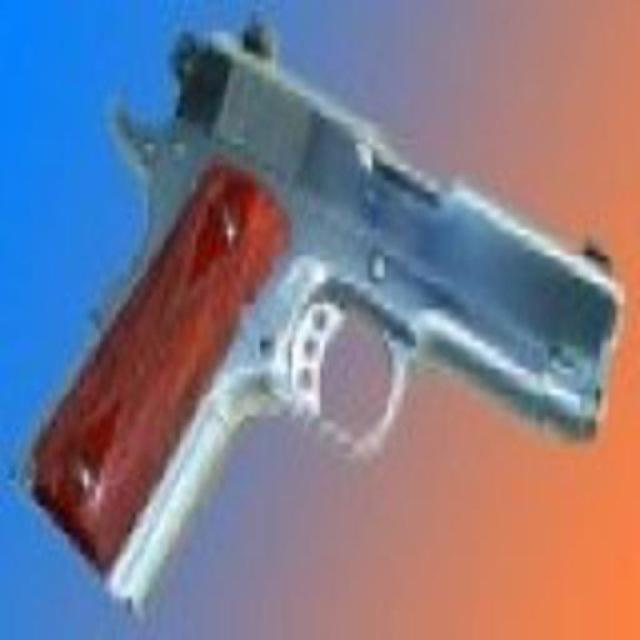pistol: (15, 31, 615, 586)
